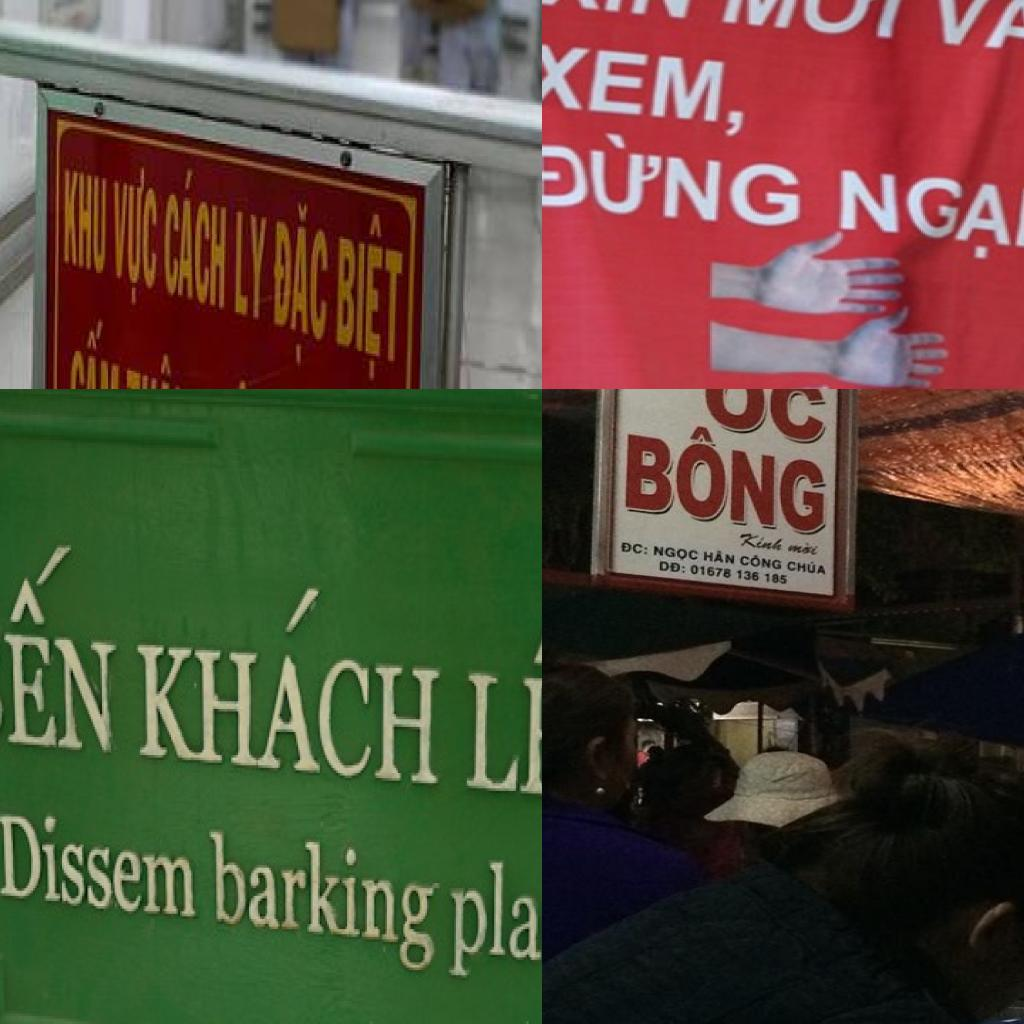text: (127, 568, 460, 804), (204, 814, 443, 990), (0, 519, 136, 765), (0, 790, 203, 934), (542, 124, 806, 231), (624, 412, 828, 539), (542, 37, 761, 142), (814, 161, 1024, 268), (456, 606, 542, 839), (333, 202, 408, 389), (268, 195, 335, 378), (159, 161, 231, 317), (712, 0, 925, 46), (695, 389, 827, 449), (112, 161, 162, 317), (920, 0, 1024, 74), (62, 166, 110, 283), (232, 205, 272, 324), (67, 314, 125, 389), (542, 0, 706, 26), (121, 339, 195, 389), (735, 531, 788, 553), (738, 552, 784, 572), (653, 544, 700, 563), (786, 557, 828, 576), (703, 548, 738, 566), (787, 540, 822, 557), (622, 540, 650, 557), (659, 560, 687, 575)
